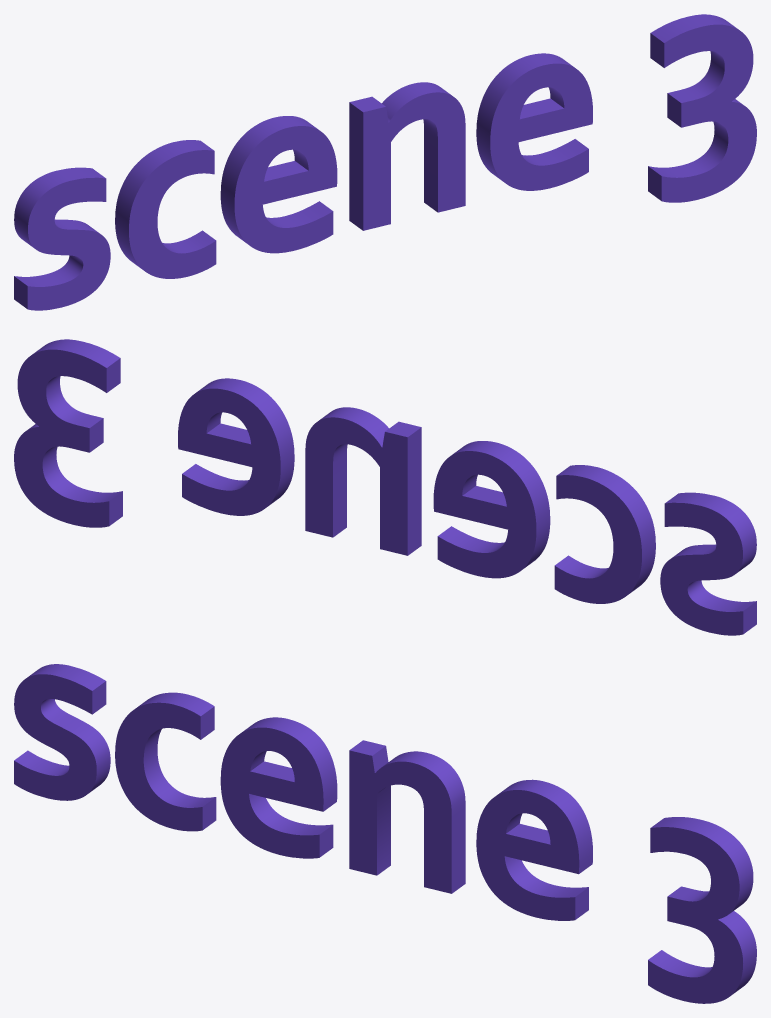
3 views of the same model, one above another, from view 1: azimuth 30°, elevation 25°; view 2: azimuth 150°, elevation 25°; view 3: azimuth 330°, elevation 25° (orthographic).
Visible parts, largest first — view 1: Polygon_2, Polygon_5, Polygon_3, Polygon_4, Polygon, Polygon_6; view 2: Polygon_2, Polygon_5, Polygon_3, Polygon_4, Polygon, Polygon_6; view 3: Polygon_2, Polygon_5, Polygon_3, Polygon_4, Polygon, Polygon_6.
Boxes of the visible parts, left/top/right/bottom form: Polygon_2: left=648, top=14, right=756, bottom=202; Polygon_5: left=220, top=116, right=337, bottom=253; Polygon_3: left=476, top=53, right=592, bottom=190; Polygon_4: left=349, top=82, right=465, bottom=230; Polygon: left=14, top=167, right=110, bottom=310; Polygon_6: left=115, top=140, right=216, bottom=278; Polygon_2: left=14, top=339, right=122, bottom=527; Polygon_5: left=433, top=441, right=550, bottom=578; Polygon_3: left=178, top=378, right=294, bottom=515; Polygon_4: left=305, top=407, right=421, bottom=555; Polygon: left=660, top=492, right=756, bottom=635; Polygon_6: left=554, top=465, right=655, bottom=603; Polygon_2: left=648, top=817, right=756, bottom=1003; Polygon_5: left=220, top=717, right=337, bottom=858; Polygon_3: left=476, top=779, right=592, bottom=920; Polygon_4: left=349, top=740, right=465, bottom=893; Polygon: left=14, top=664, right=110, bottom=800; Polygon_6: left=115, top=692, right=216, bottom=831.
Bounding box in the file's own units: 609 × 137 × 20.
